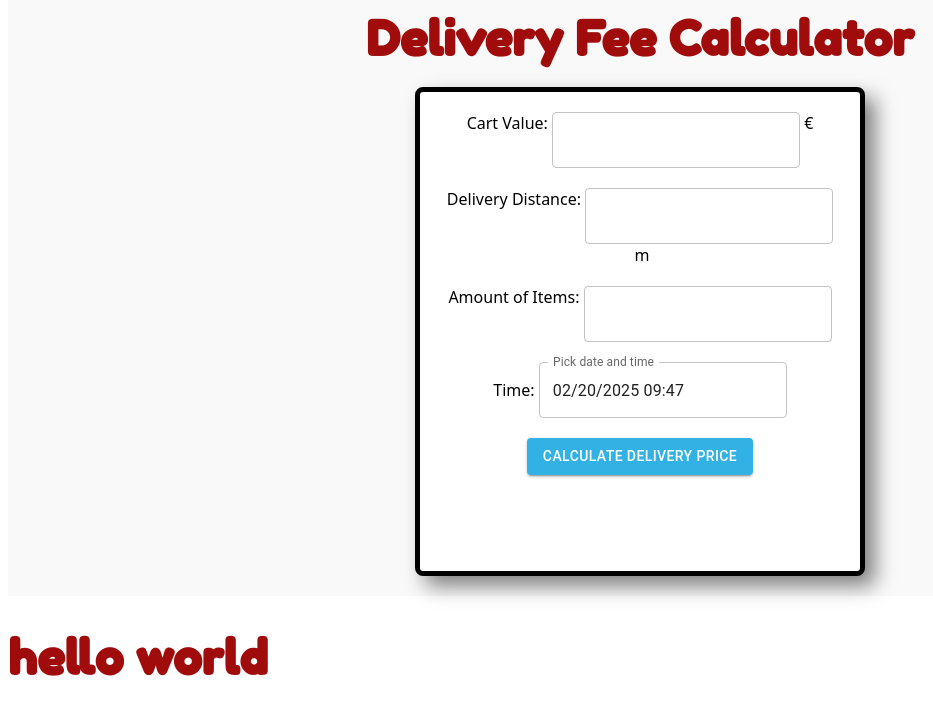
it: Delivery Fee Calculator Tests › shows error messages when any of the fields is not filled on submit
The image size is (933, 709).
Step 1. Type "1" into the element with test id "cart-value" next to "Cart Value:" → (676, 140), box [552,112,800,168]
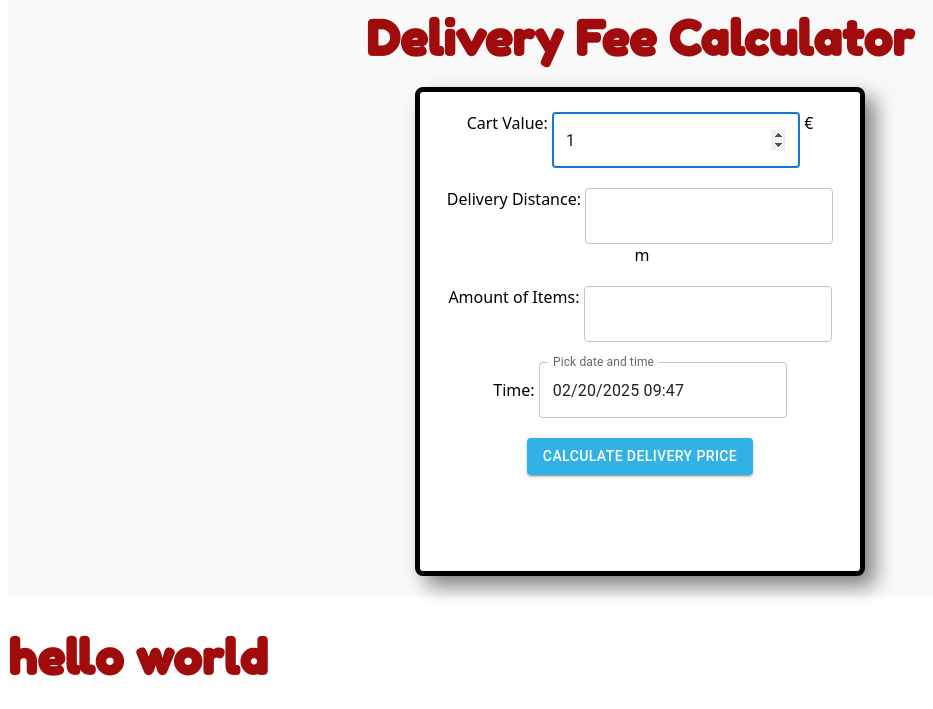
Step 2. Type "150" into the element with test id "delivery-distance" next to "Delivery Distance:" → (709, 216), box [585,188,833,244]
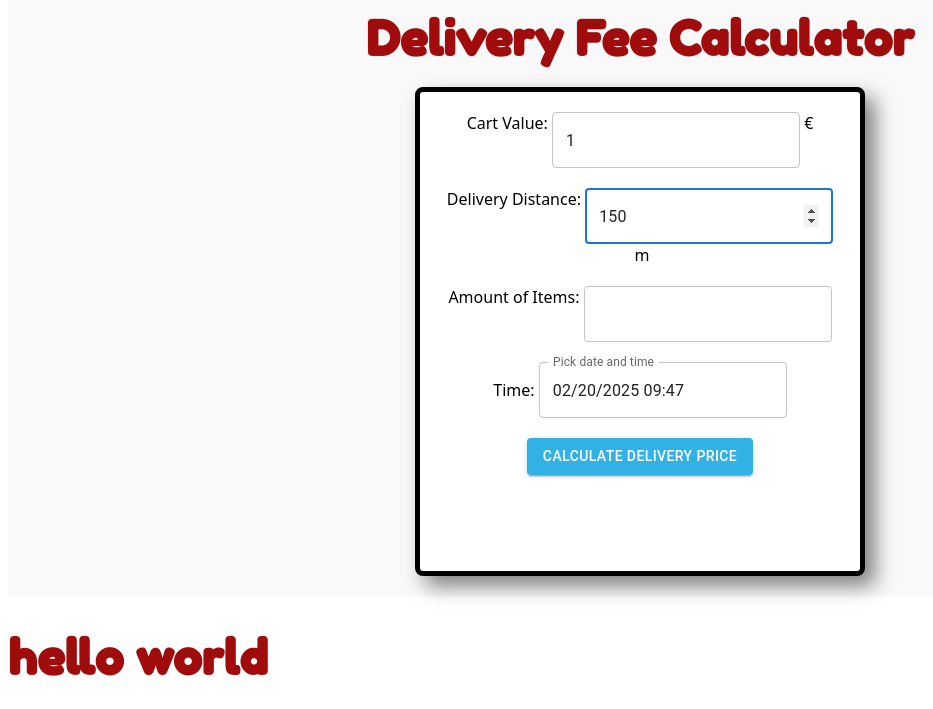
Step 3. Click the button with test id "submit-button" → (640, 457), box [527,438,753,475]
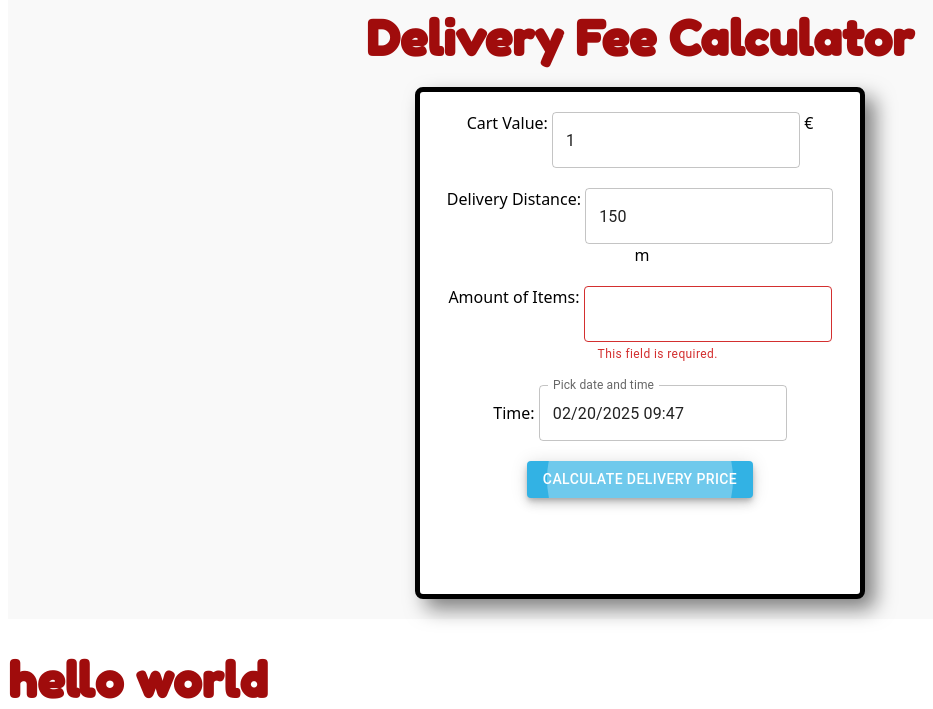
Expected: the text "This field is required." is shown, [598,347,718,361]
